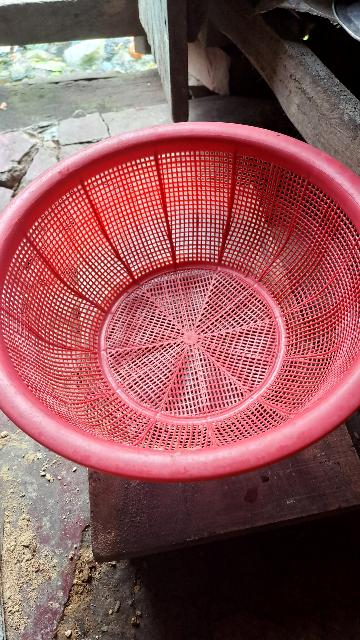hardplastic: (0, 97, 360, 494)
